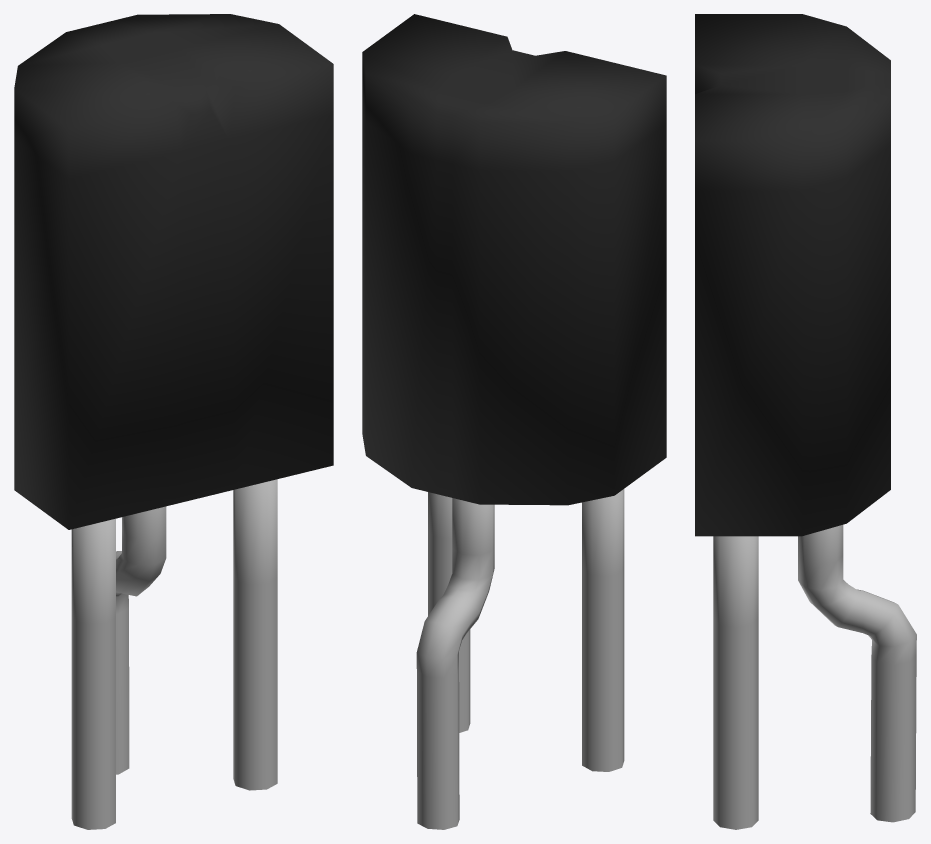
File: transistor.fbx
The picture shows the model from 3 angles, left to right: view 1: azimuth 30°, elevation 25°; view 2: azimuth 150°, elevation 25°; view 3: azimuth 270°, elevation 25°; orthographic projection. The views are drawn at different scales.
Parts seen in each view (by area): view 1: transistor; view 2: transistor; view 3: transistor.
Part boxes in pixels (x1,y1,x2,y2): transistor: (14, 14, 333, 829); transistor: (362, 14, 666, 829); transistor: (695, 14, 916, 829).
Size of the model in its own units: 38.6 by 104 by 28.44.
